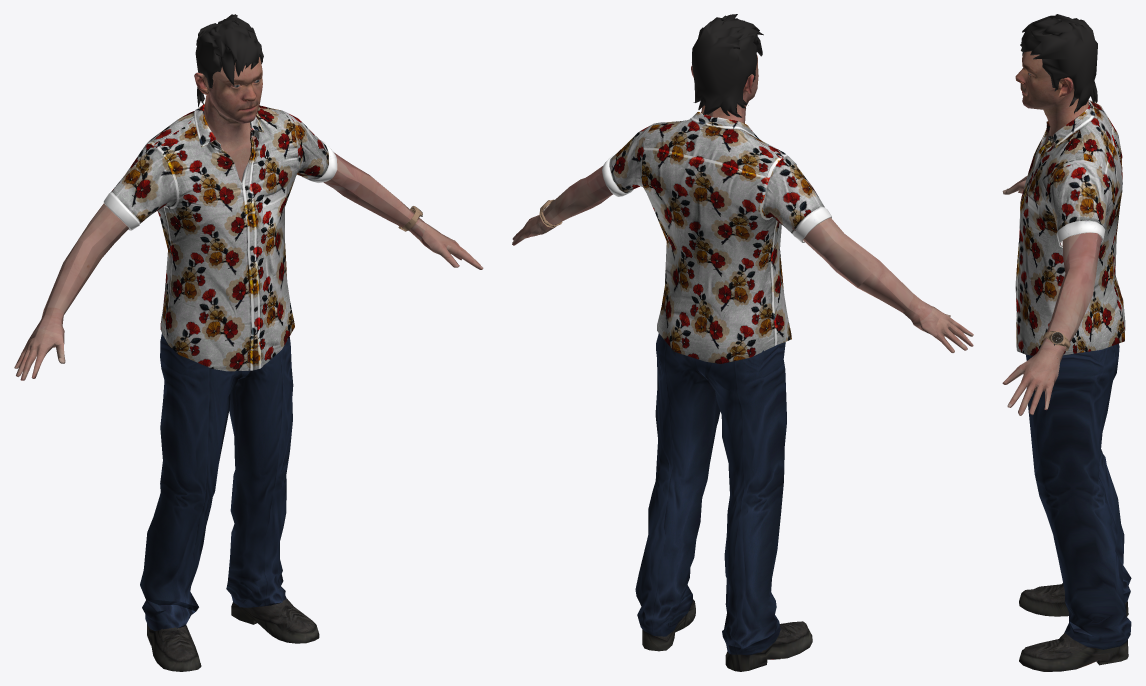
The model's file is gangster2.fbx.
The picture shows the model from 3 angles, left to right: view 1: azimuth 30°, elevation 25°; view 2: azimuth 150°, elevation 25°; view 3: azimuth 270°, elevation 25°; orthographic projection.
Visible parts, largest first — view 1: armes; view 2: armes; view 3: armes.
Boxes of the visible parts, x1,y1,x2,y2 form: armes: (14, 14, 483, 671); armes: (512, 14, 973, 671); armes: (1002, 14, 1131, 671).
Size of the model in its own units: 363 by 469 by 88.55.
